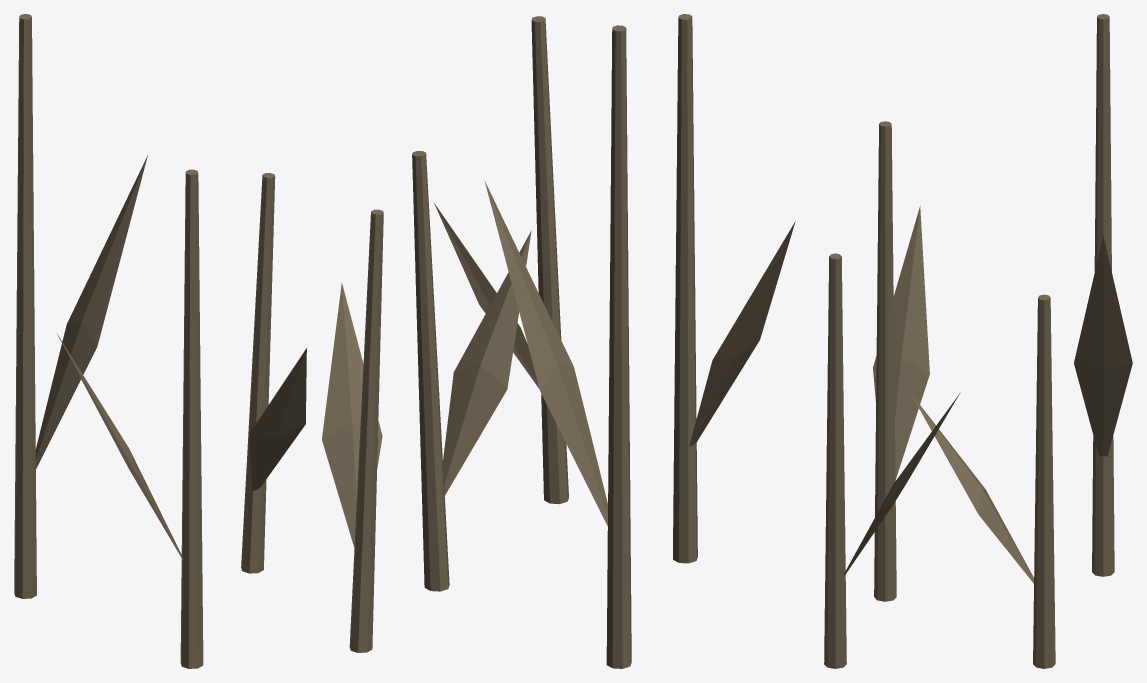
Rendered from reeds_1_winter.glb.
The picture shows the model from 3 angles, left to right: view 1: azimuth 30°, elevation 25°; view 2: azimuth 150°, elevation 25°; view 3: azimuth 270°, elevation 25°; orthographic projection. The views are drawn at different scales.
Parts seen in each view (by area): view 1: reeds_1_winter; view 2: reeds_1_winter; view 3: reeds_1_winter.
Part boxes in pixels (left/top/right/bottom): reeds_1_winter: left=14, top=14, right=383, bottom=668; reeds_1_winter: left=412, top=14, right=795, bottom=668; reeds_1_winter: left=824, top=14, right=1132, bottom=668.
Bounding box in the file's own units: 0.7534 × 1.35 × 0.68.
